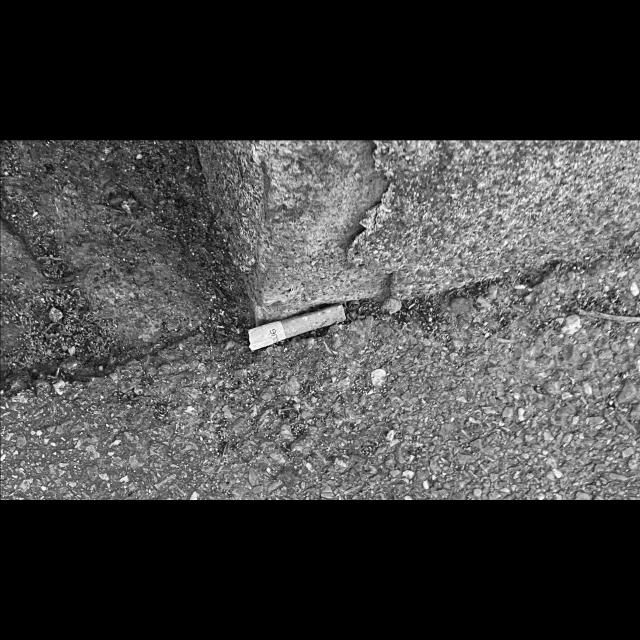cigarette: (246, 302, 346, 352)
